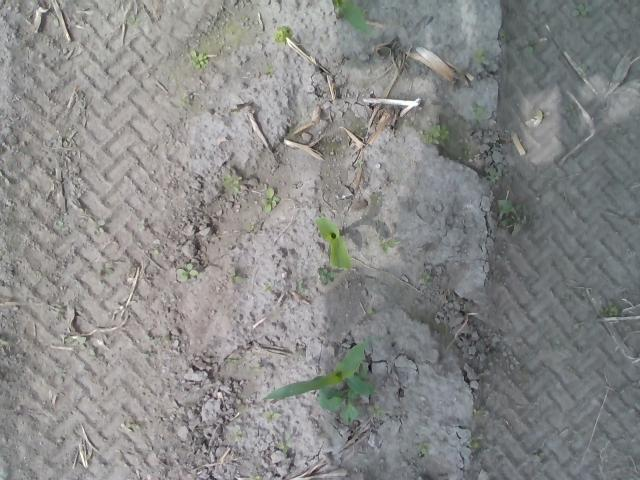Maize: (264, 334, 374, 428), (308, 215, 352, 270), (327, 1, 376, 36)
Weeds: (493, 192, 522, 228), (225, 14, 249, 42), (422, 124, 449, 147), (258, 186, 280, 213), (187, 50, 213, 70), (175, 262, 198, 282), (599, 301, 619, 321), (570, 0, 594, 16), (524, 32, 542, 53), (222, 174, 242, 192), (379, 236, 399, 252), (416, 270, 436, 286), (274, 26, 291, 43), (126, 12, 146, 26), (469, 103, 484, 120), (562, 102, 577, 119), (318, 266, 332, 284), (262, 408, 280, 422), (292, 278, 307, 294), (369, 402, 384, 418), (485, 166, 500, 182), (227, 270, 242, 284), (276, 440, 290, 455), (472, 46, 485, 61), (468, 435, 482, 448), (369, 193, 382, 206), (263, 64, 276, 76), (417, 444, 431, 455), (177, 96, 191, 107), (224, 357, 239, 366), (246, 472, 262, 480), (92, 226, 104, 236)
